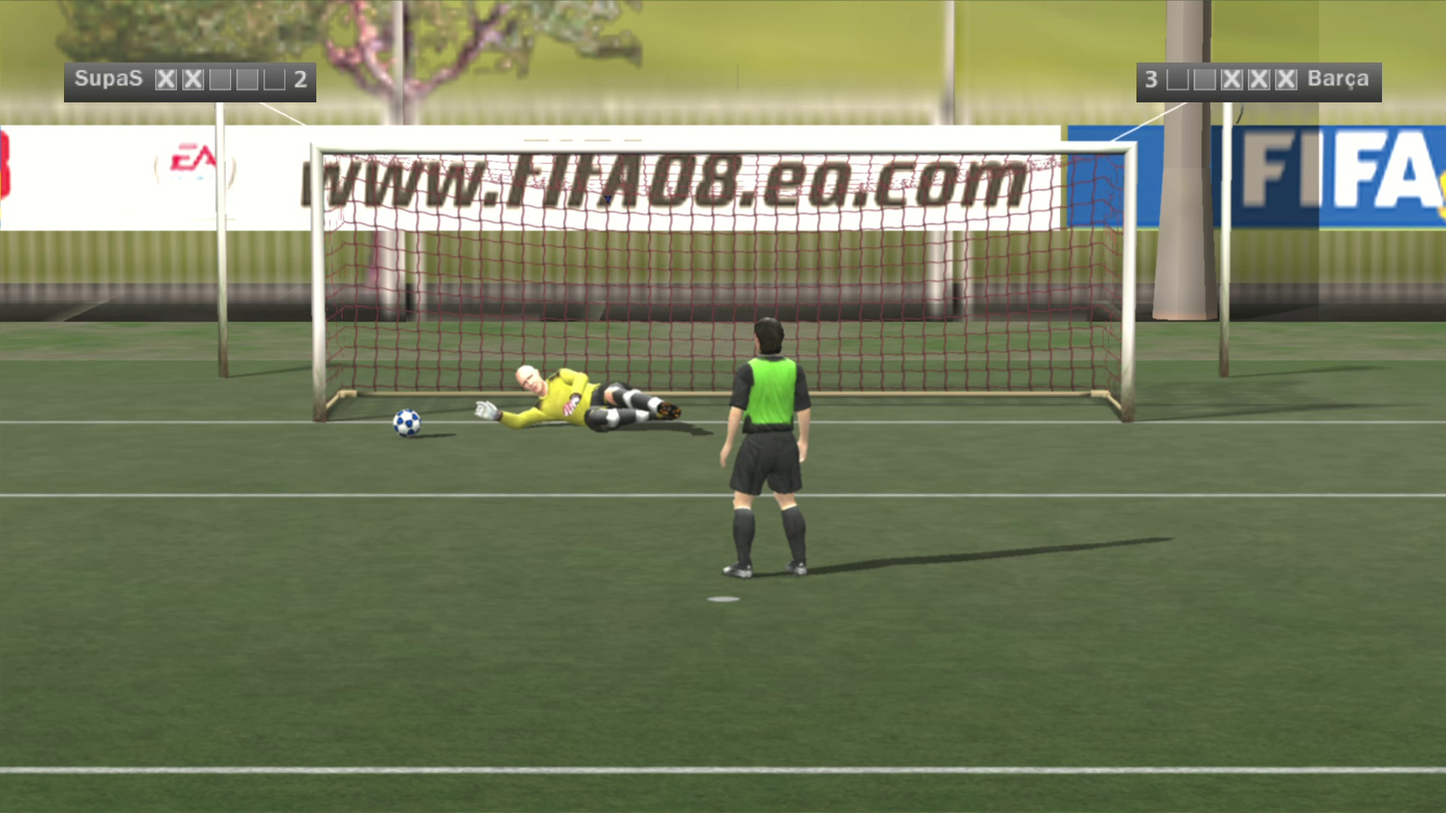ball: (377, 384, 407, 420)
goal_post: (0, 18, 722, 292)
keeper: (364, 284, 580, 391)
kicker: (659, 165, 773, 445)
